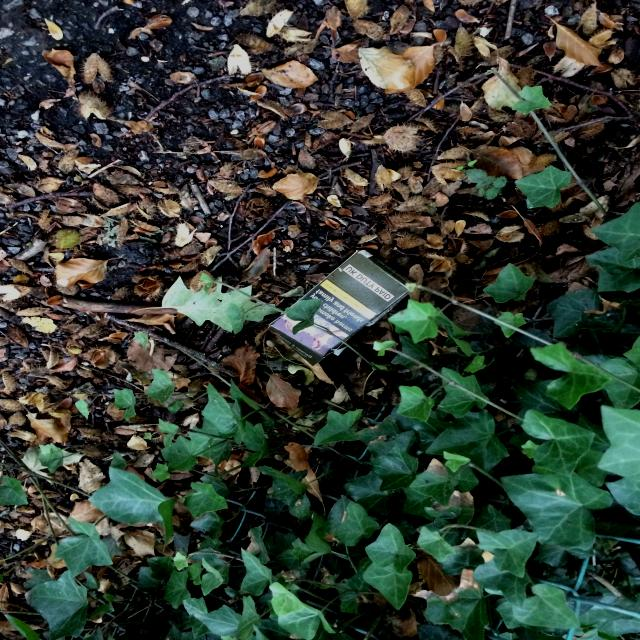Other carton: (268, 250, 413, 366)
